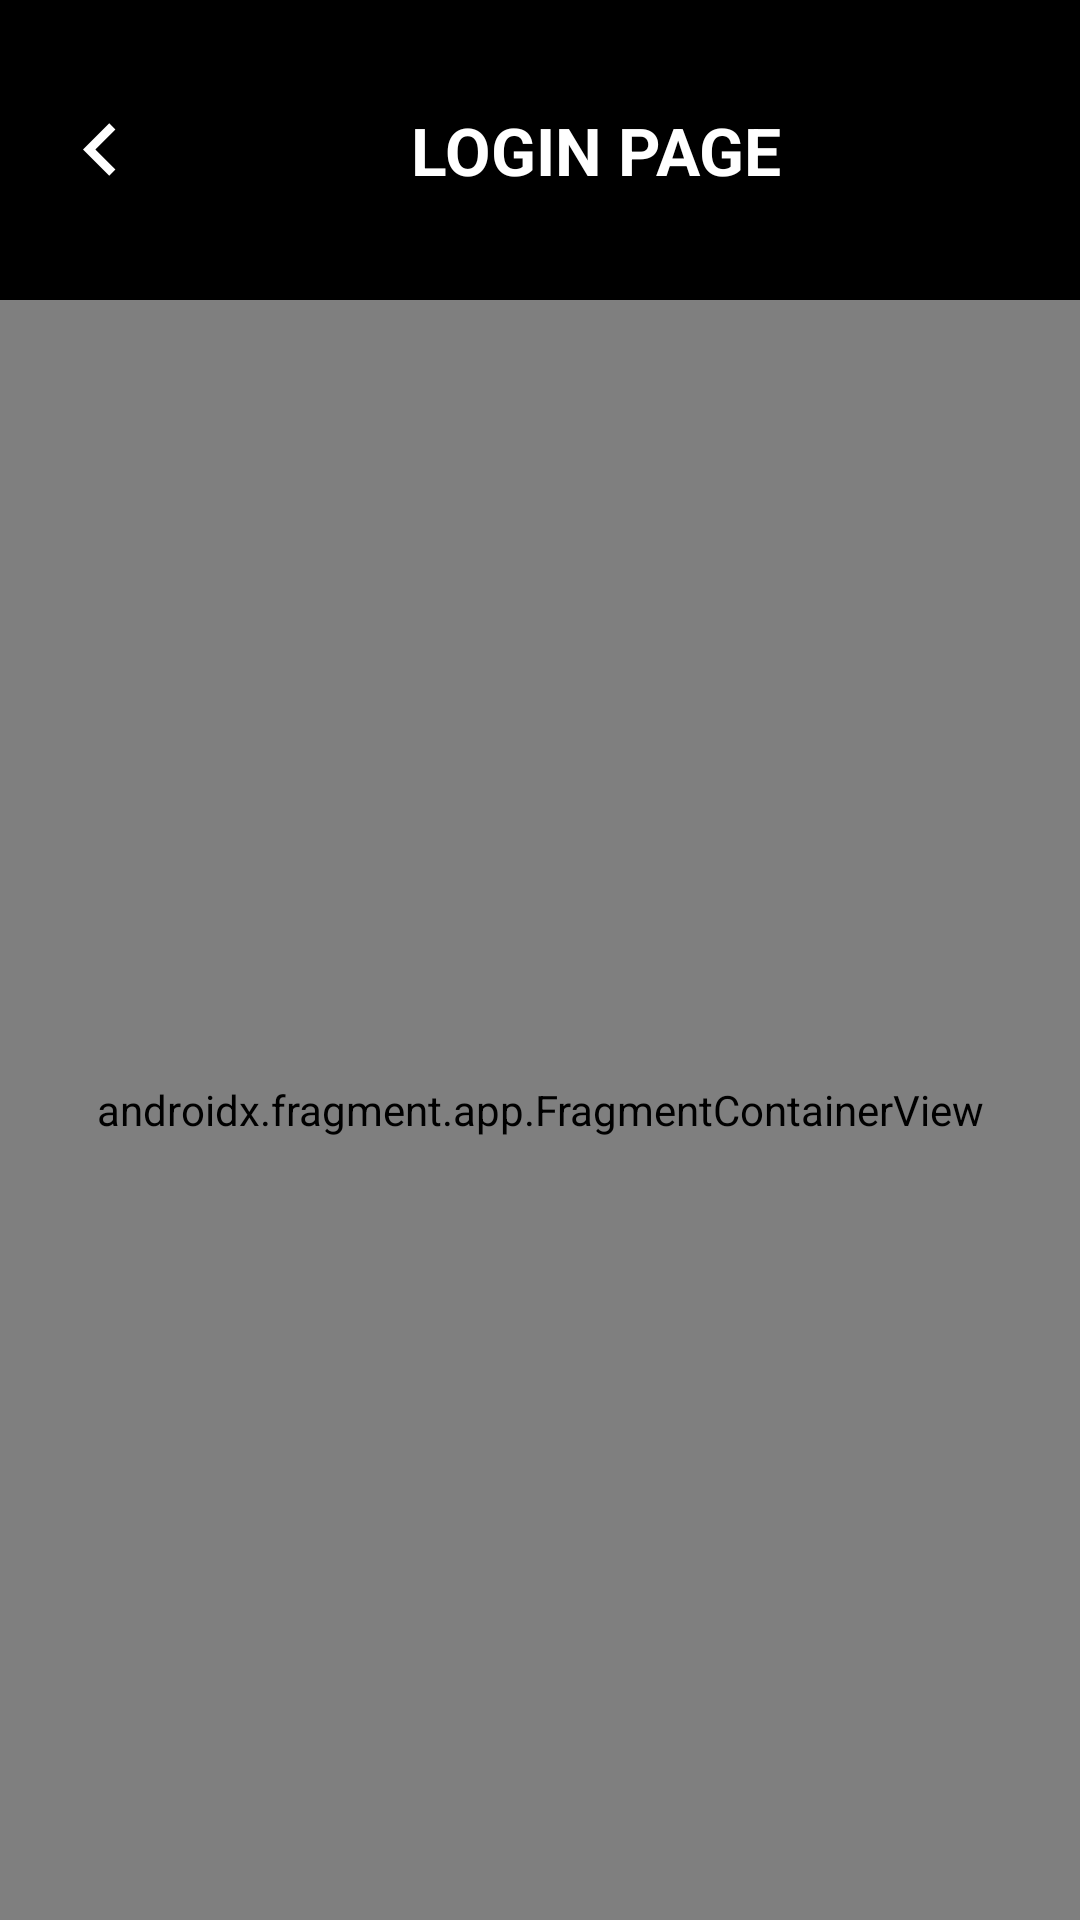

Icons on this 1080x1920 Android screen, each with its box as (x1, y1, x2, y2):
Back: (83, 123, 116, 176)
